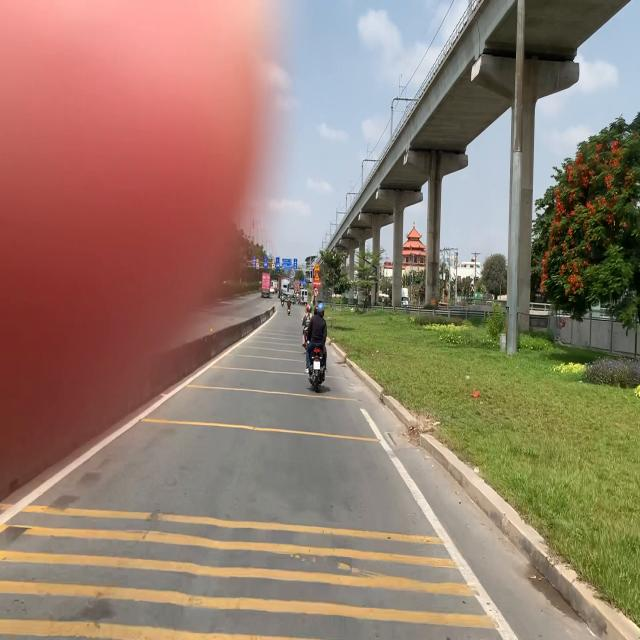Cam re phai: (313, 288, 319, 298)
Giao voi duong khong uu tien: (314, 262, 320, 272)
Nguy hiem: (314, 272, 320, 280)
